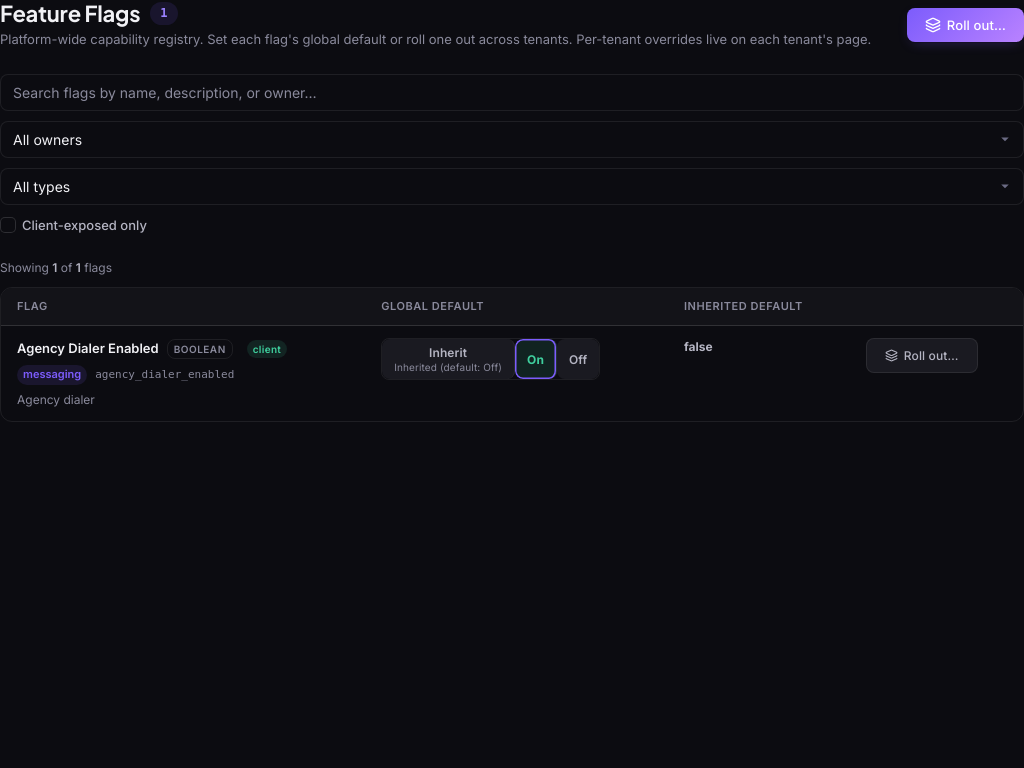
Test case: SAFeatureFlagsPage — global default editing › turning a globally-on flag off routes through a platform-wide confirm gate
The image size is (1024, 768).
Click the radio button labelled "Off" at {"x": 578, "y": 360}, box [557,340,599,380]
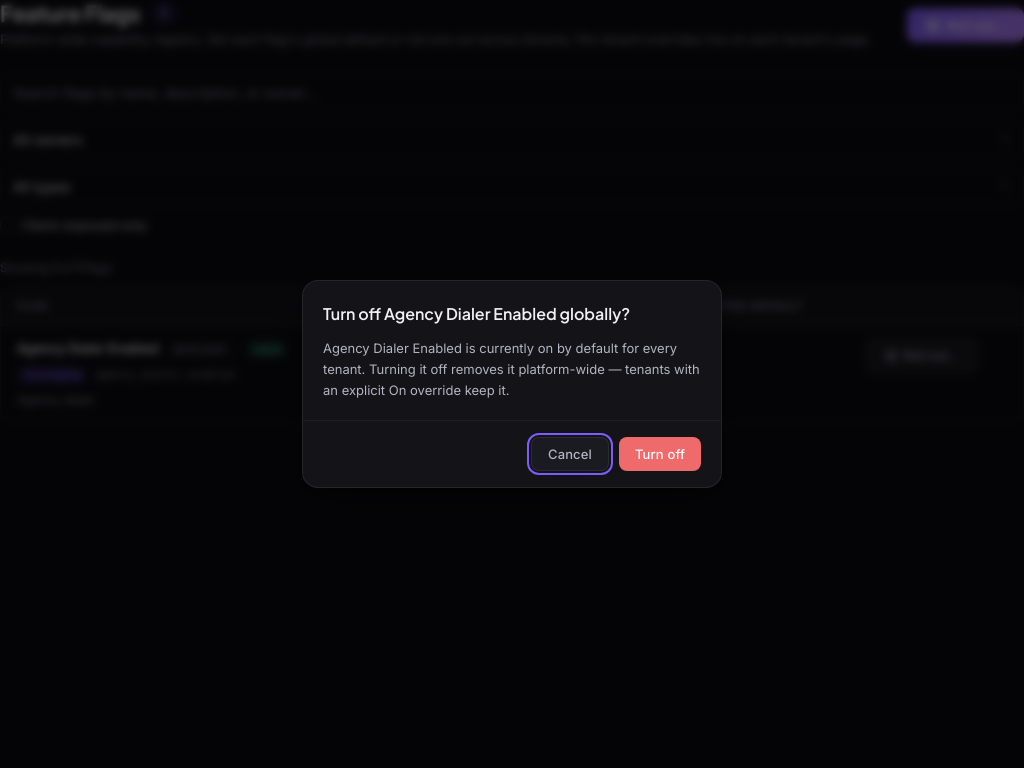
Expected: the text "removes it platform-wide" is shown, [323,340,700,398]
